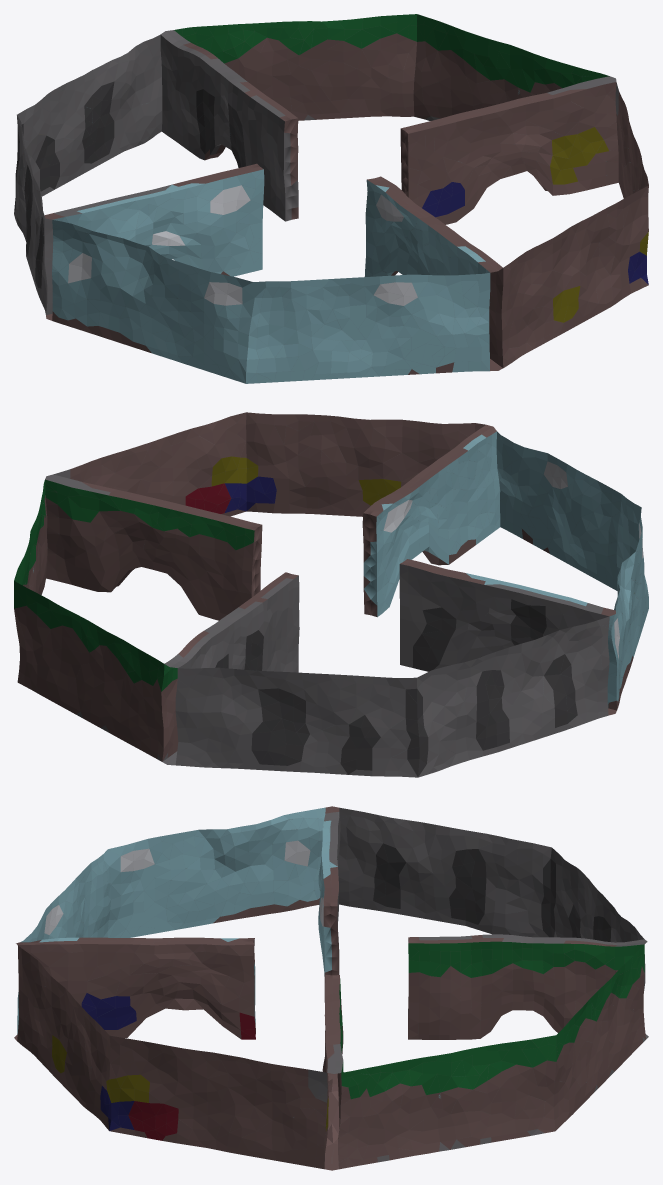
Rendered from walspoorten.fbx.
3 views of the same model, one above another, from view 1: azimuth 30°, elevation 25°; view 2: azimuth 150°, elevation 25°; view 3: azimuth 270°, elevation 25° (orthographic). The views are drawn at different scales.
Parts seen in each view (by area): view 1: Circle.001; view 2: Circle.001; view 3: Circle.001.
Part boxes in pixels (x1=…): Circle.001: x1=14, y1=14, x2=648, y2=383; Circle.001: x1=14, y1=412, x2=648, y2=777; Circle.001: x1=14, y1=806, x2=648, y2=1170.
Bounding box in the file's own units: 1734 × 299 × 1736.
